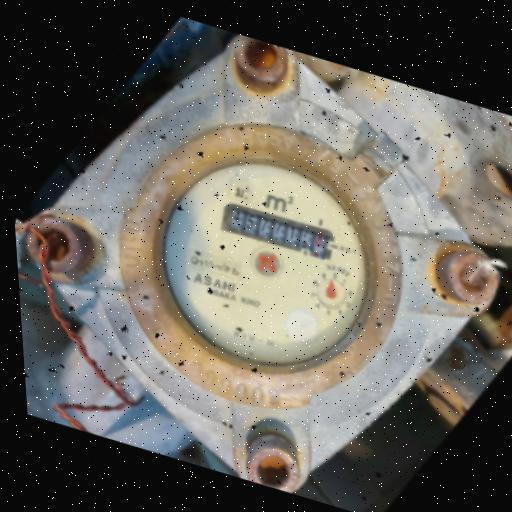1: (284, 222, 300, 245)
4: (228, 207, 246, 230)
5: (243, 211, 259, 234)
7: (297, 226, 314, 249), (270, 218, 286, 241), (257, 215, 272, 238)
8: (310, 231, 326, 258)
border_water_meter_number: (218, 198, 339, 262)
